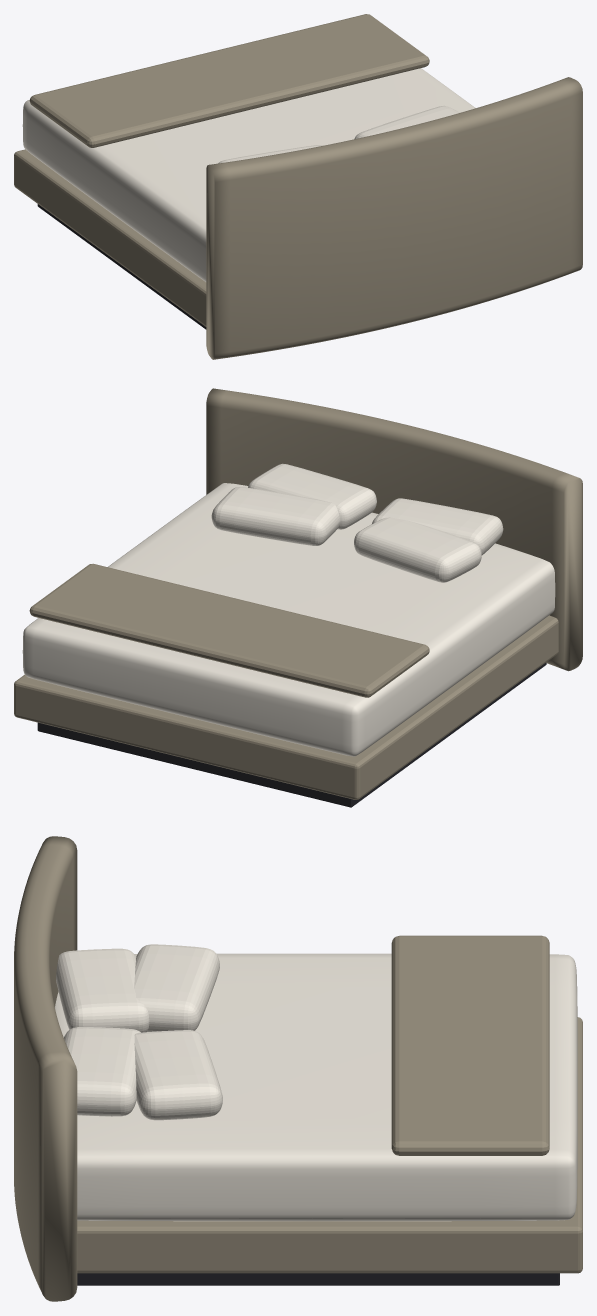
Rendered from bed.glb.
The picture shows the model from 3 angles, top to bottom: view 1: azimuth 30°, elevation 25°; view 2: azimuth 150°, elevation 25°; view 3: azimuth 270°, elevation 25°; orthographic projection. The views are drawn at different scales.
Visible parts, largest first — view 1: bed_head, bed_mattress, bed_throw, bed_base, bed_pillow_3, bed_plinth; view 2: bed_mattress, bed_head, bed_base, bed_throw, bed_pillow_3, bed_pillow_2, bed_pillow_1, bed_plinth, bed_pillow_0; view 3: bed_mattress, bed_throw, bed_base, bed_head, bed_pillow_3, bed_pillow_0, bed_plinth, bed_pillow_2, bed_pillow_1.
Boxes of the visible parts, bbox=[...] form: bed_head: bbox=[206, 77, 582, 359]; bed_mattress: bbox=[22, 68, 475, 281]; bed_throw: bbox=[29, 14, 429, 147]; bed_base: bbox=[14, 149, 206, 326]; bed_pillow_3: bbox=[354, 105, 459, 139]; bed_plinth: bbox=[37, 204, 206, 329]; bed_mattress: bbox=[22, 483, 555, 756]; bed_head: bbox=[206, 388, 582, 671]; bed_base: bbox=[14, 615, 558, 799]; bed_throw: bbox=[29, 563, 429, 697]; bed_pillow_3: bbox=[211, 487, 340, 545]; bed_pillow_2: bbox=[354, 517, 481, 582]; bed_pillow_1: bbox=[248, 463, 376, 529]; bed_plinth: bbox=[37, 663, 546, 807]; bed_pillow_0: bbox=[372, 498, 503, 555]; bed_mattress: bbox=[55, 953, 577, 1221]; bed_throw: bbox=[391, 935, 549, 1155]; bed_base: bbox=[77, 1017, 582, 1273]; bed_head: bbox=[14, 836, 77, 1301]; bed_pillow_3: bbox=[134, 1030, 222, 1120]; bed_pillow_0: bbox=[56, 948, 149, 1032]; bed_plinth: bbox=[77, 1273, 559, 1285]; bed_pillow_2: bbox=[134, 944, 219, 1032]; bed_pillow_1: bbox=[64, 1027, 140, 1116].
Bounding box in the file's own units: 2.11 × 1.04 × 2.23.
